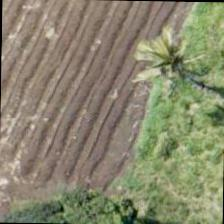Kelapa_Sawit: (131, 23, 223, 115)
